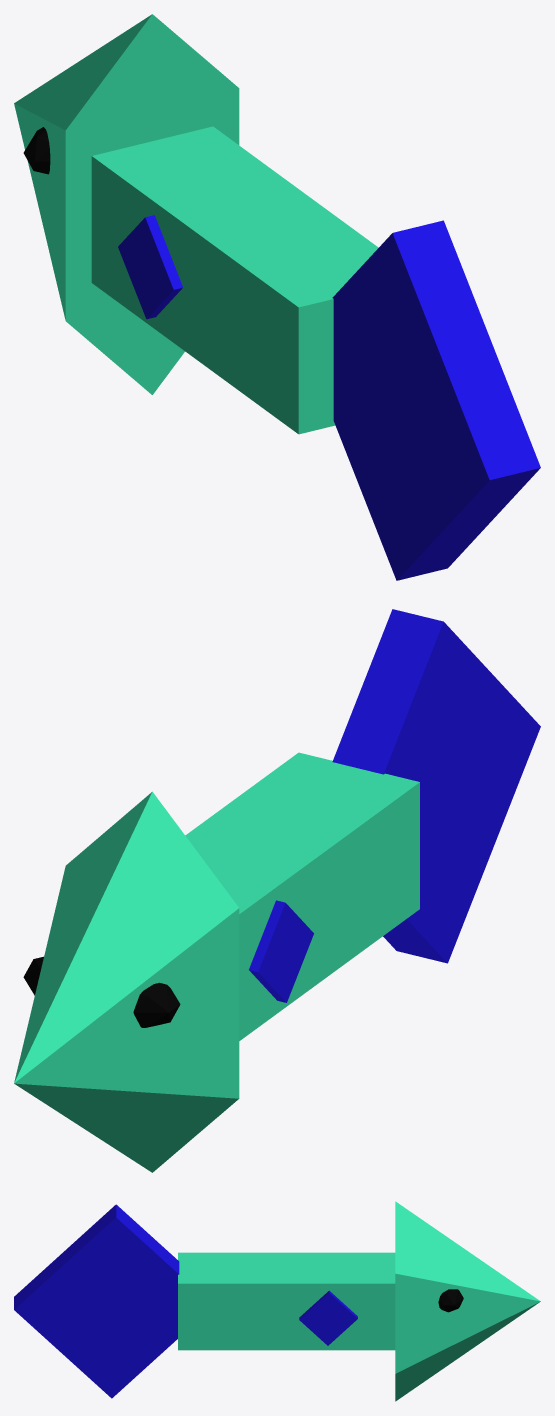
The model's file is Fish.glb.
3 views of the same model, one above another, from view 1: azimuth 30°, elevation 25°; view 2: azimuth 150°, elevation 25°; view 3: azimuth 270°, elevation 25° (orthographic). The views are drawn at different scales.
Visible parts, largest first — view 1: Cube, Cube.001, Cone, Cube.003, Icosphere; view 2: Cone, Cube, Cube.001, Cube.003, Icosphere; view 3: Cube, Cube.001, Cone, Cube.002, Icosphere.
Part boxes in pixels (x1,y1,x2,y2): Cube: (91, 126, 378, 434); Cube.001: (332, 220, 540, 580); Cone: (14, 14, 239, 394); Cube.003: (118, 215, 182, 319); Icosphere: (23, 127, 50, 174); Cone: (14, 791, 239, 1172); Cube: (185, 752, 419, 1040); Cube.001: (332, 609, 540, 963); Cube.003: (249, 900, 313, 1002); Icosphere: (23, 956, 180, 1027); Cube: (178, 1252, 395, 1350); Cube.001: (14, 1204, 179, 1398); Cone: (395, 1201, 540, 1401); Cube.002: (299, 1290, 357, 1345); Icosphere: (438, 1289, 463, 1312).
Size of the model in its own units: 0.9525 by 2 by 4.77.
